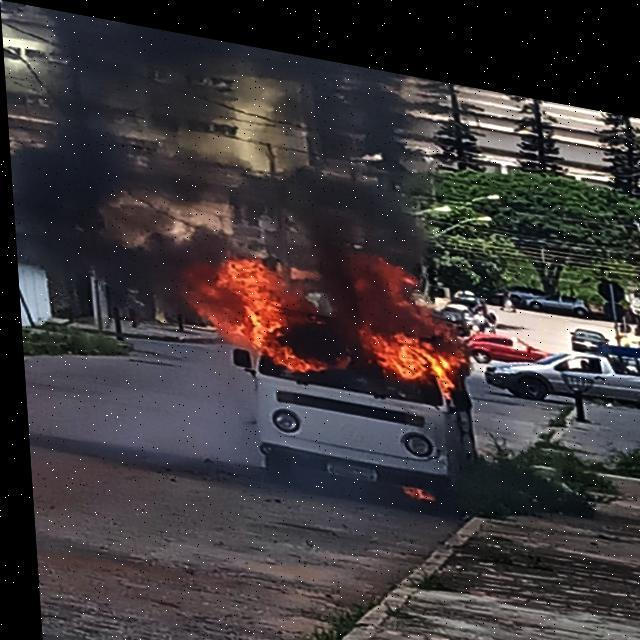Fire: (175, 235, 344, 368), (352, 235, 460, 384), (396, 470, 430, 486)
